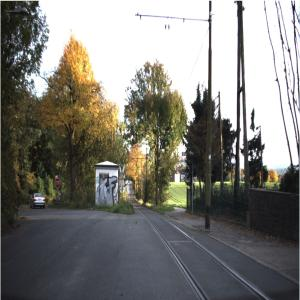STOP: (56, 178, 62, 189)
